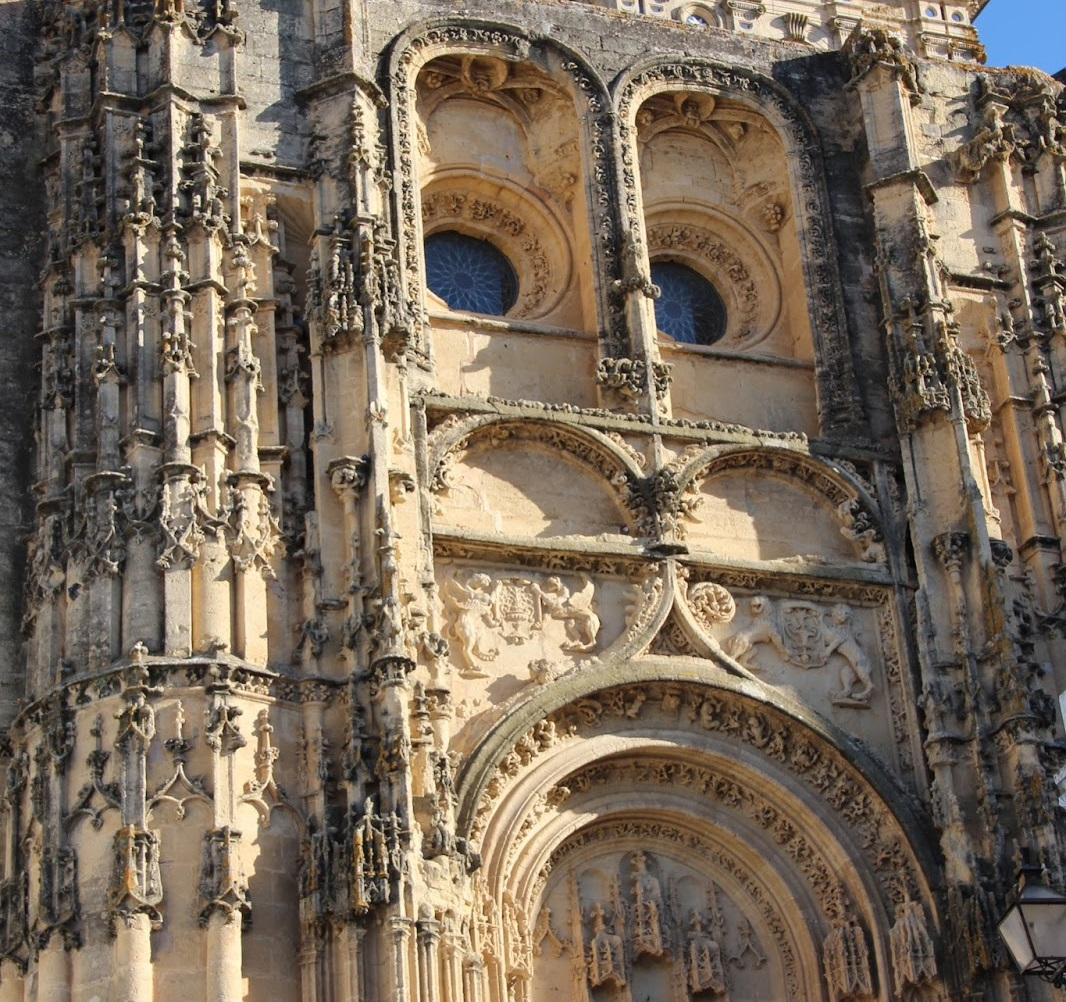arco-conopial: (480, 571, 868, 735)
